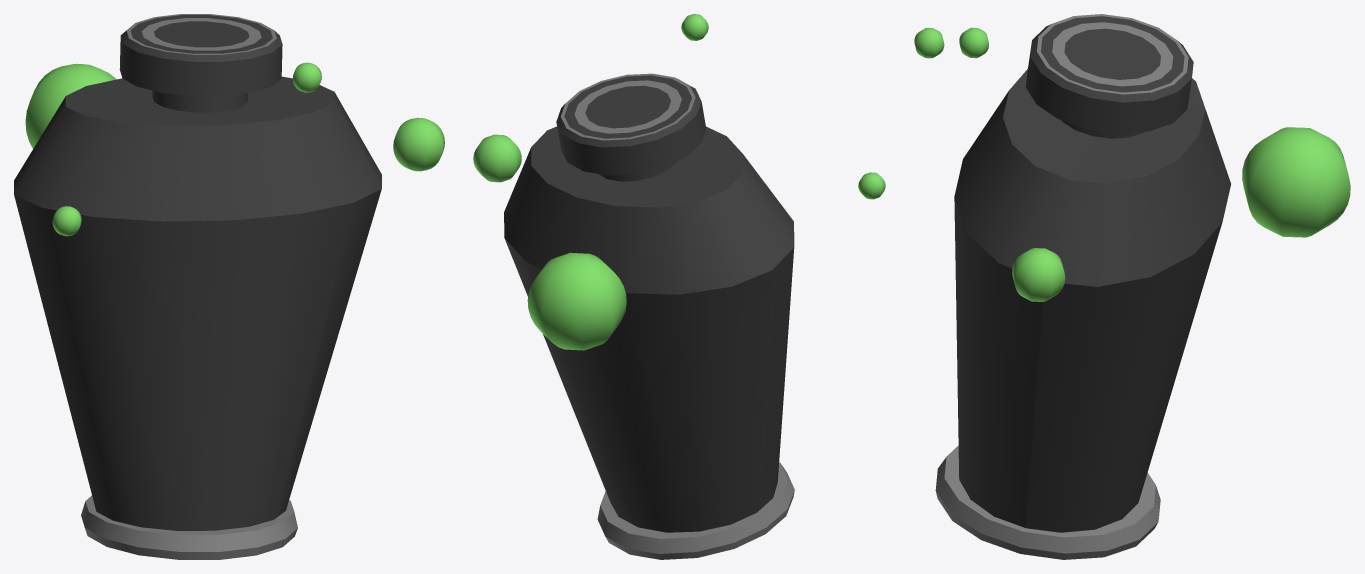
Rendered from VialRound.fbx.
The picture shows the model from 3 angles, left to right: view 1: azimuth 30°, elevation 25°; view 2: azimuth 150°, elevation 25°; view 3: azimuth 270°, elevation 25°; orthographic projection. The views are drawn at different scales.
Visible parts, largest first — view 1: B, A; view 2: B, A; view 3: B, A.
Boxes of the visible parts, x1,y1,x2,y2 form: B: (14,76,381,530); A: (25,14,444,559); B: (504,126,794,532); A: (473,14,885,559); B: (954,69,1230,532); A: (914,14,1350,559).
Size of the model in its own units: 353 by 411 by 312.
